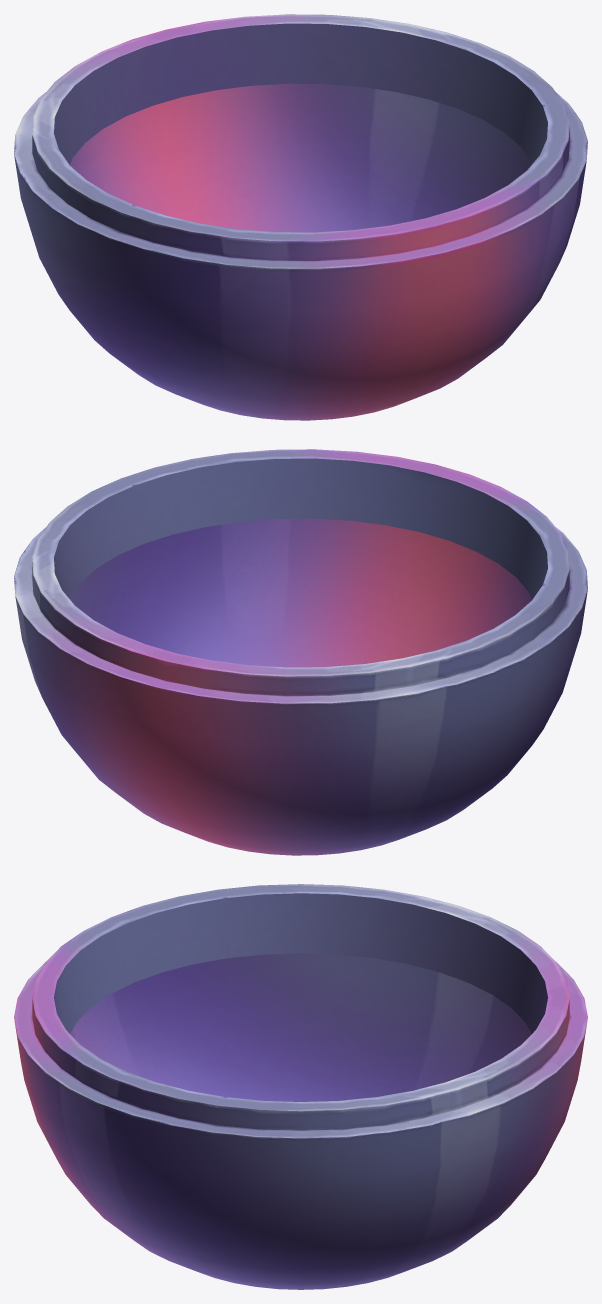
File: scenes_level_bata01a.FBX
3 views of the same model, one above another, from view 1: azimuth 30°, elevation 25°; view 2: azimuth 150°, elevation 25°; view 3: azimuth 270°, elevation 25° (orthographic).
Parts seen in each view (by area): view 1: scenes_level_bata01a; view 2: scenes_level_bata01a; view 3: scenes_level_bata01a.
Boxes of the visible parts, x1,y1,x2,y2 form: scenes_level_bata01a: (14, 14, 587, 420); scenes_level_bata01a: (14, 449, 587, 855); scenes_level_bata01a: (14, 884, 587, 1289).
Bounding box in the file's own units: 550 × 275 × 550.
